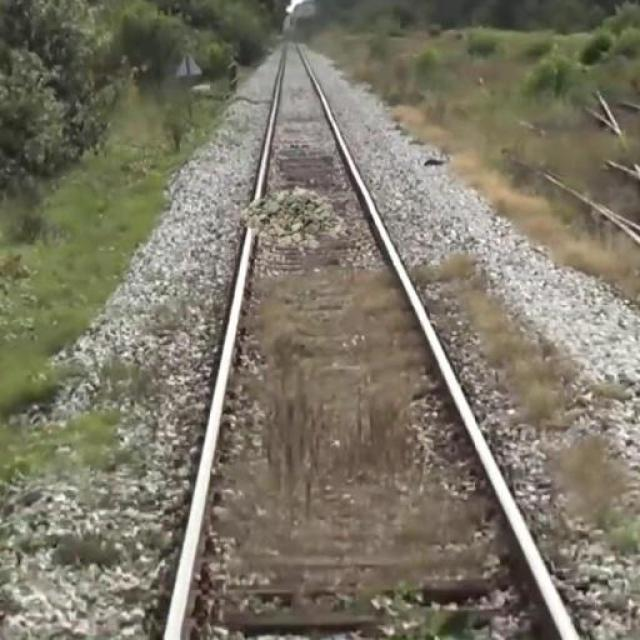Plant: (221, 269, 491, 567), (483, 331, 573, 425), (557, 436, 633, 520), (453, 277, 508, 332), (415, 254, 480, 283), (607, 514, 639, 551)
Stone: (242, 185, 354, 250)
